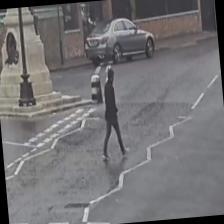person: (94, 68, 130, 162)
